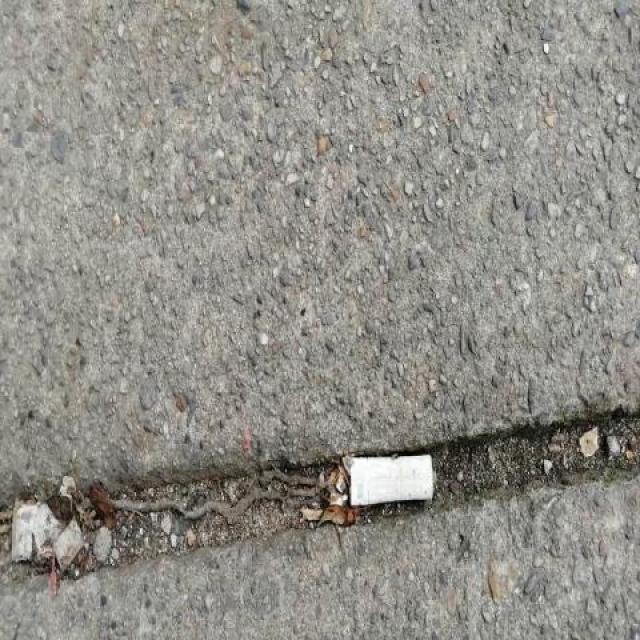non-organic waste: (338, 450, 438, 511)
